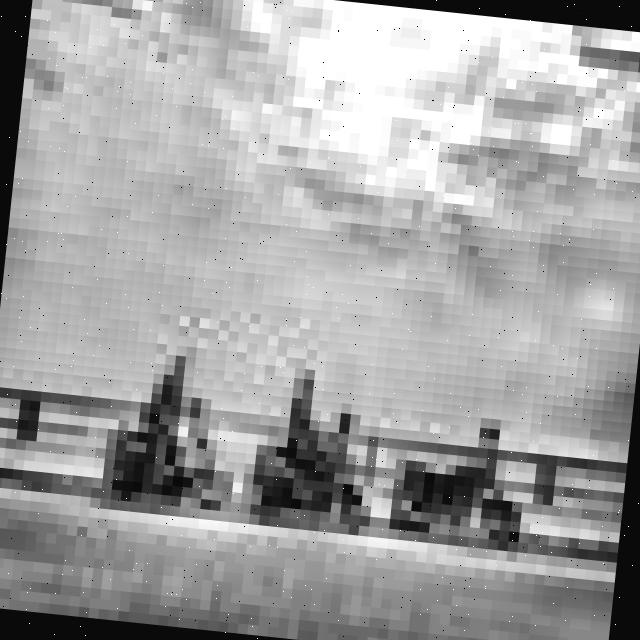mopeds: (384, 440, 549, 558), (236, 438, 372, 560), (100, 412, 228, 528)
